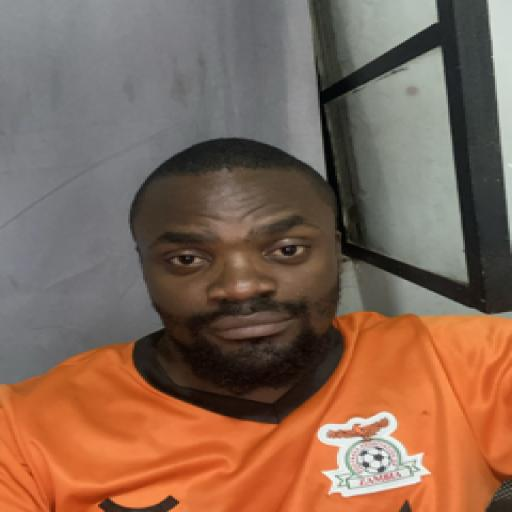JEANLUC: (128, 144, 355, 385)
